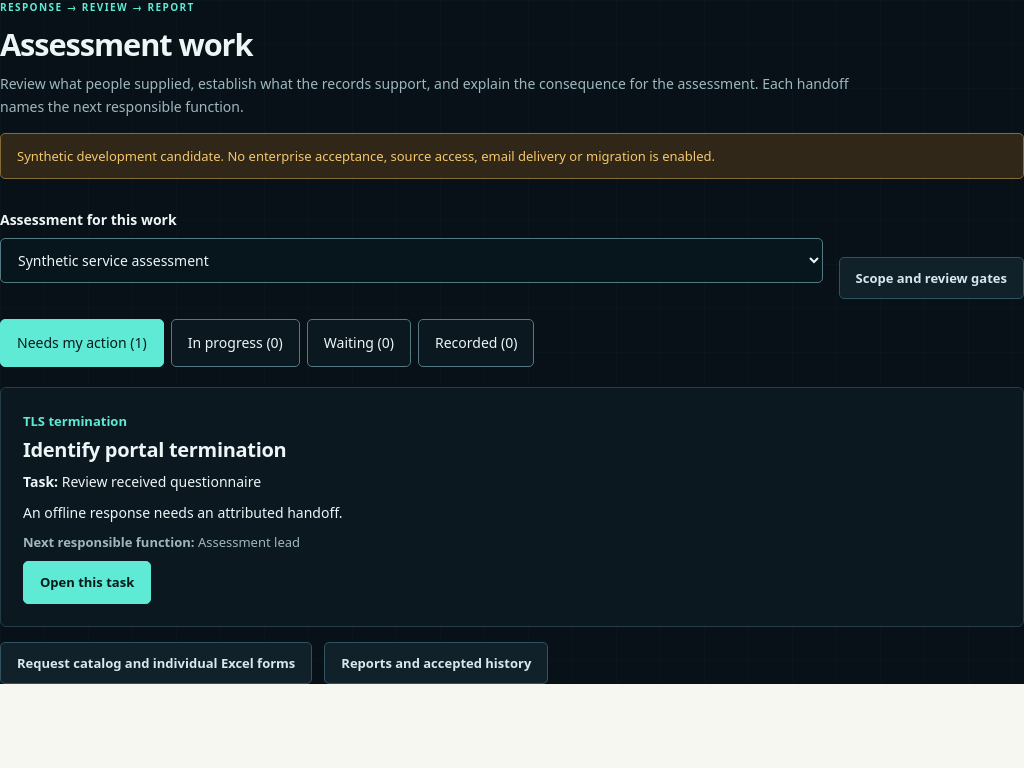
Test: one coordinator and reviewer assessment-work surface › shows four work states, a purpose and the next responsible function, not completion metrics
The width and height of the screenshot is (1024, 768).
Expected: the heading "Identify portal termination" is shown, [23,436,286,463]
Expected: the text "An offline response needs an attributed handoff." is shown, [23,503,342,522]
Click the button "Open this task".
click(87, 582)  # box [23,561,151,604]
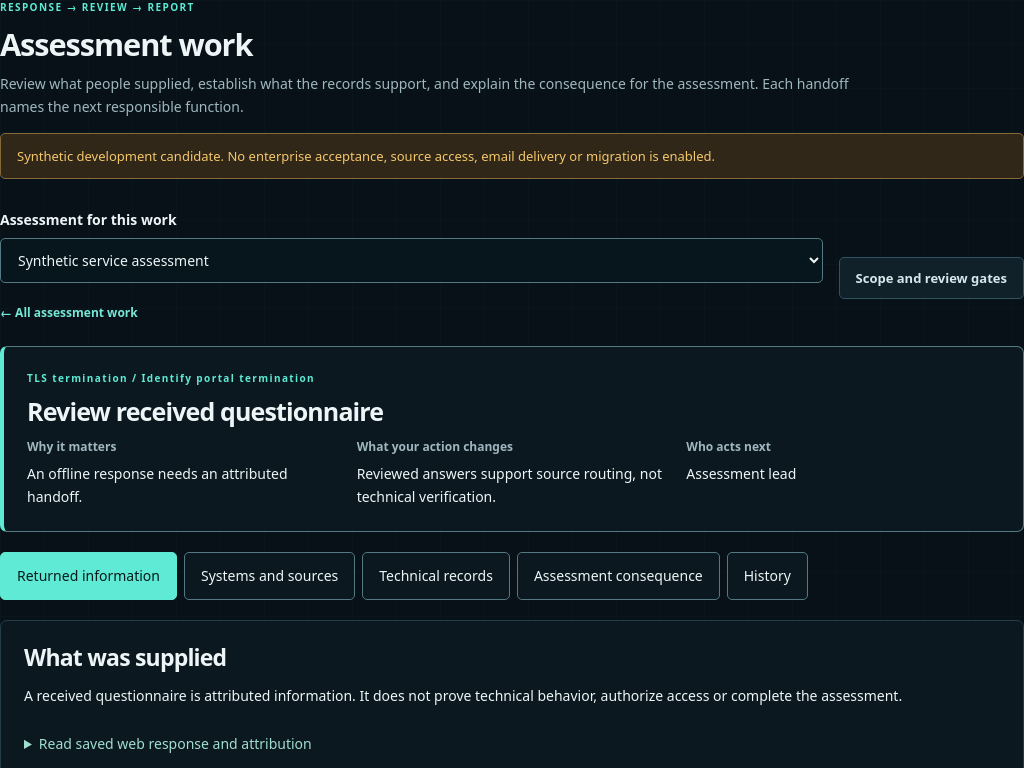
Now the heading "What was supplied" is shown, box [24,641,226,673]
Now the text "What your action changes" is shown, box [357,438,513,456]
